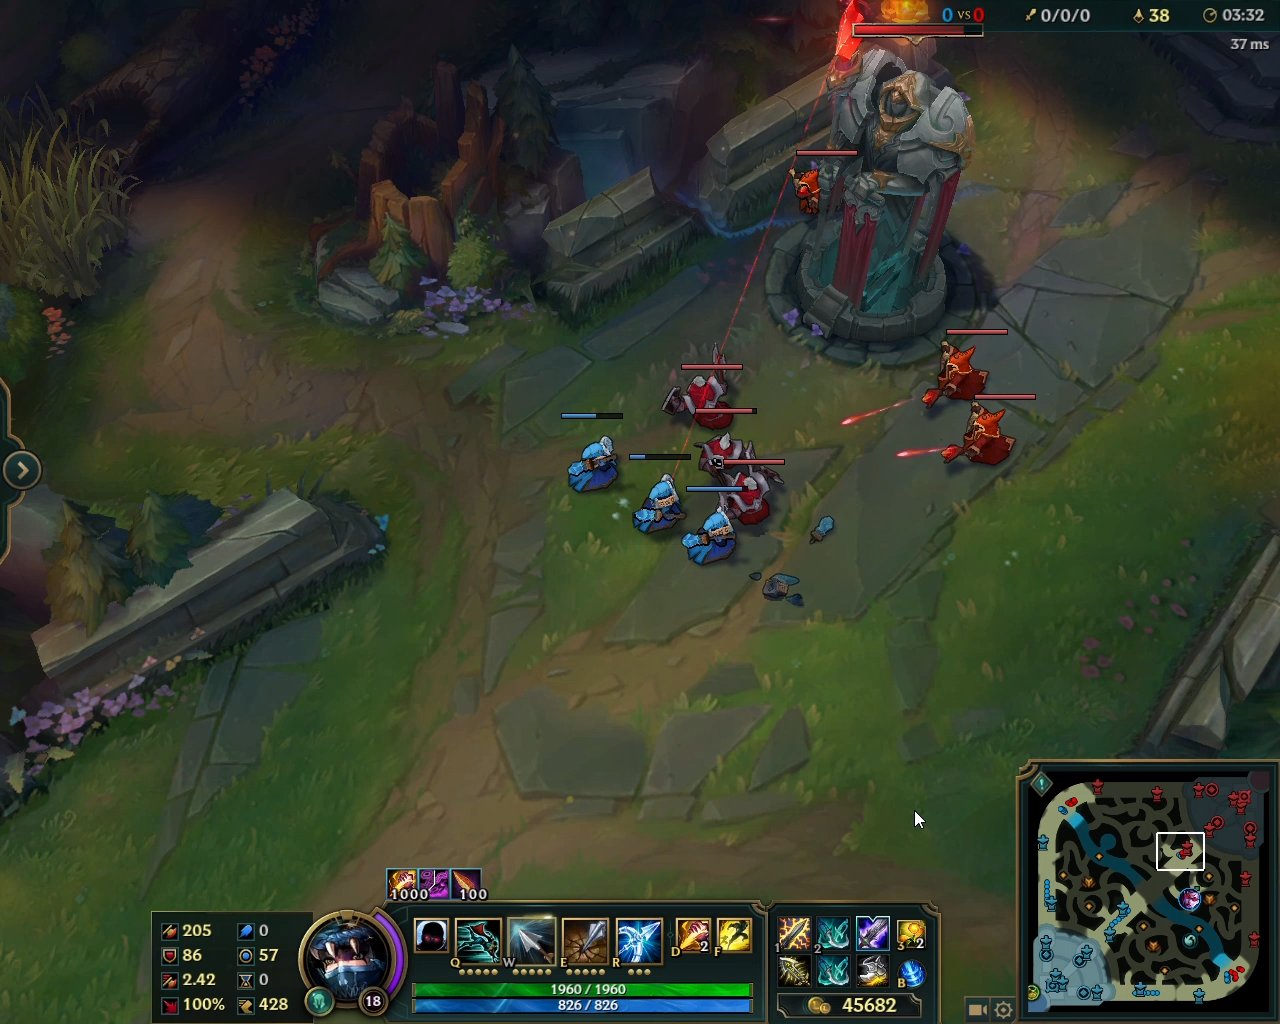EnemyMinion: (920, 328, 1011, 410), (664, 342, 743, 434), (941, 393, 1038, 468), (688, 408, 766, 487), (714, 458, 789, 528)
Tower: (775, 6, 1006, 351)
